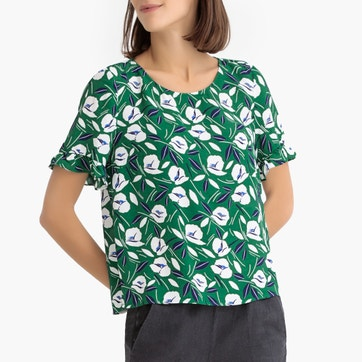C_short blouse: (47, 51, 295, 319)
